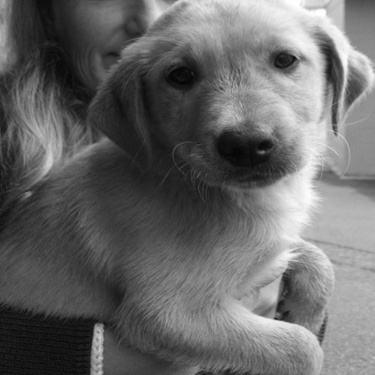dog: (1, 2, 365, 369)
